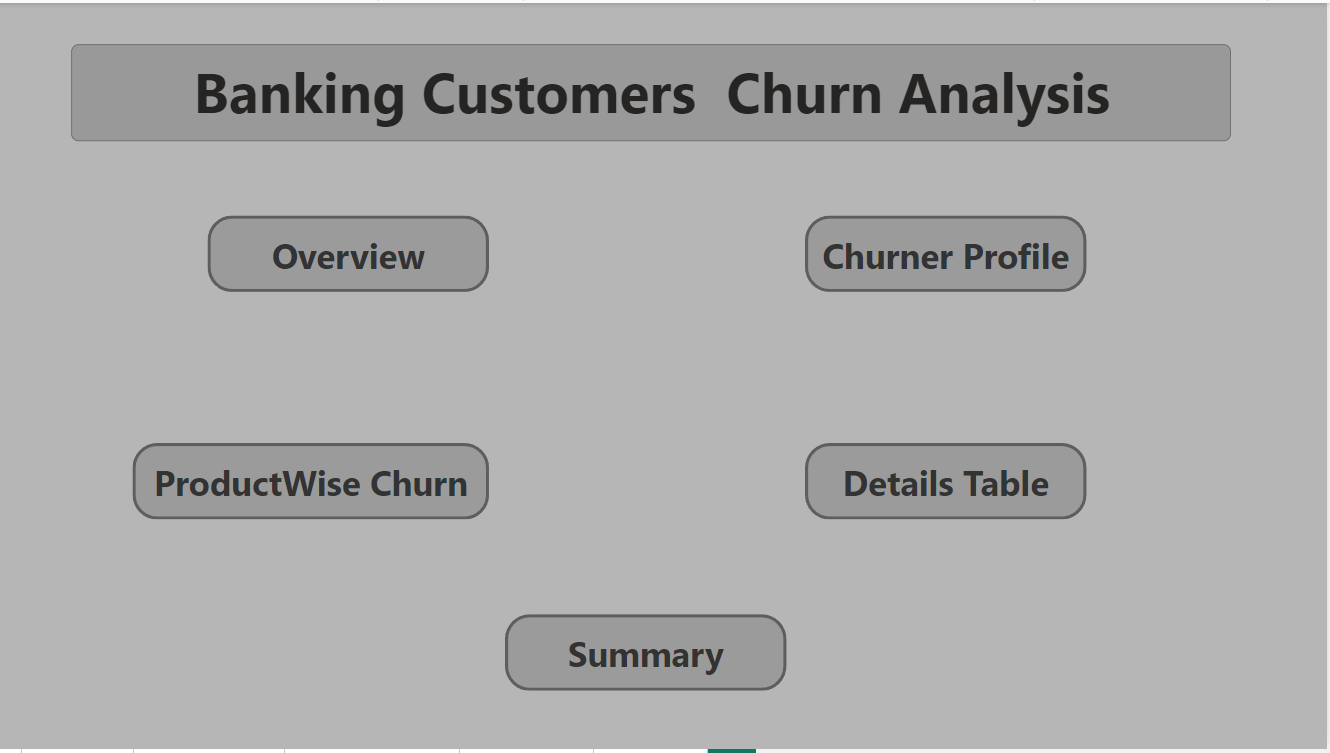

What the dashboard file says about the page in this screenshot:
{"tool":"powerbi","page":{"name":"Home","canvas":[1280,720],"ordinal":0},"visuals":[{"type":"actionButton","box":[200.5,204.8,271.6,74],"z":0},{"type":"actionButton","box":[776.5,204.8,271.6,74],"z":1000},{"type":"actionButton","box":[776.5,425.2,271.6,74],"z":2000},{"type":"actionButton","box":[128,425.2,344.2,74],"z":3000},{"type":"actionButton","box":[487.8,590.2,271.6,74],"z":4000},{"type":"textbox","box":[68.3,39.8,1119.3,93.9],"z":5000}]}

Visuals, with their boxes in screenshot pixels (x1, y1, x2, y2), scaled from the page's 1280x720 canvas onto the 1330x753 screenshot:
actionButton: box=[208, 214, 491, 292]
actionButton: box=[807, 214, 1089, 292]
actionButton: box=[807, 445, 1089, 522]
actionButton: box=[133, 445, 491, 522]
actionButton: box=[507, 617, 789, 695]
textbox: box=[71, 42, 1234, 140]
